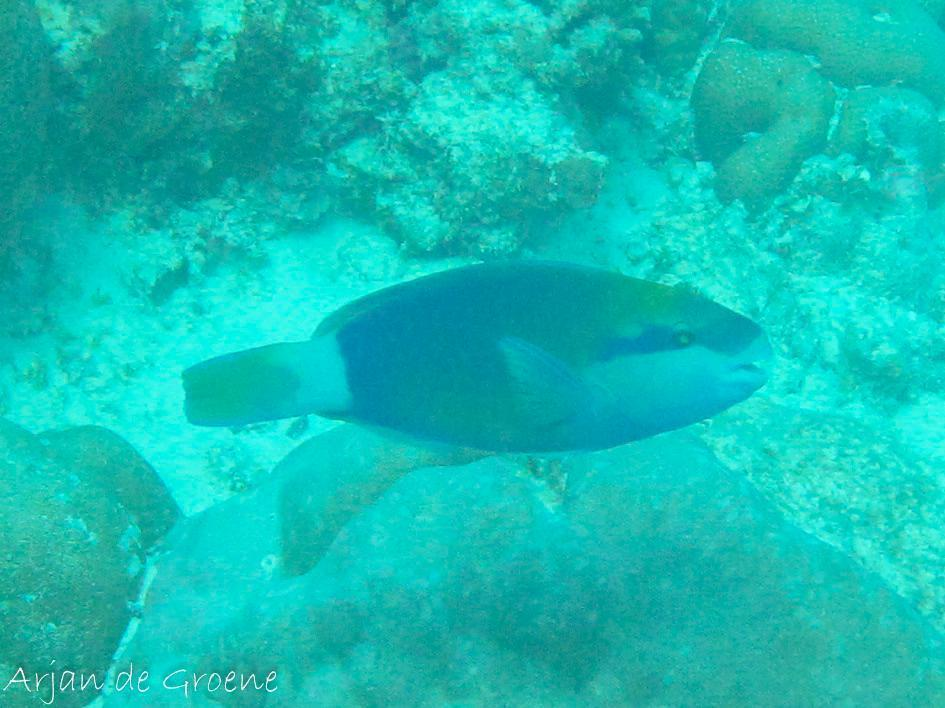Chlorurus sordidus: (184, 243, 782, 485)
